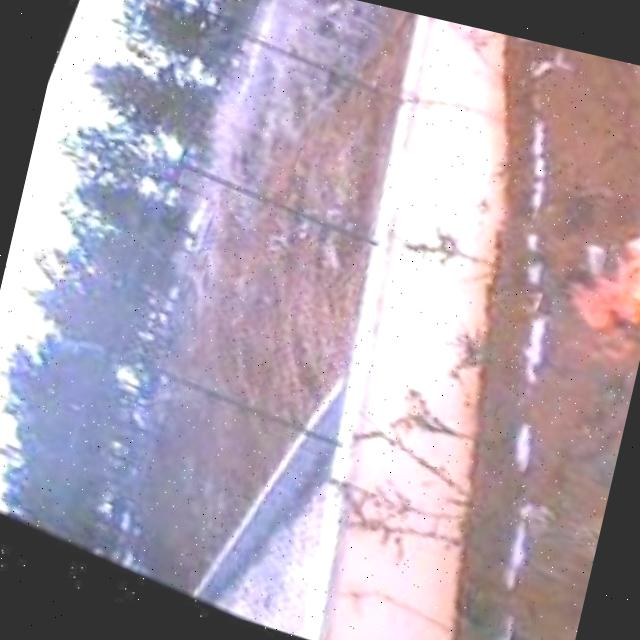fire: (544, 136, 640, 379)
